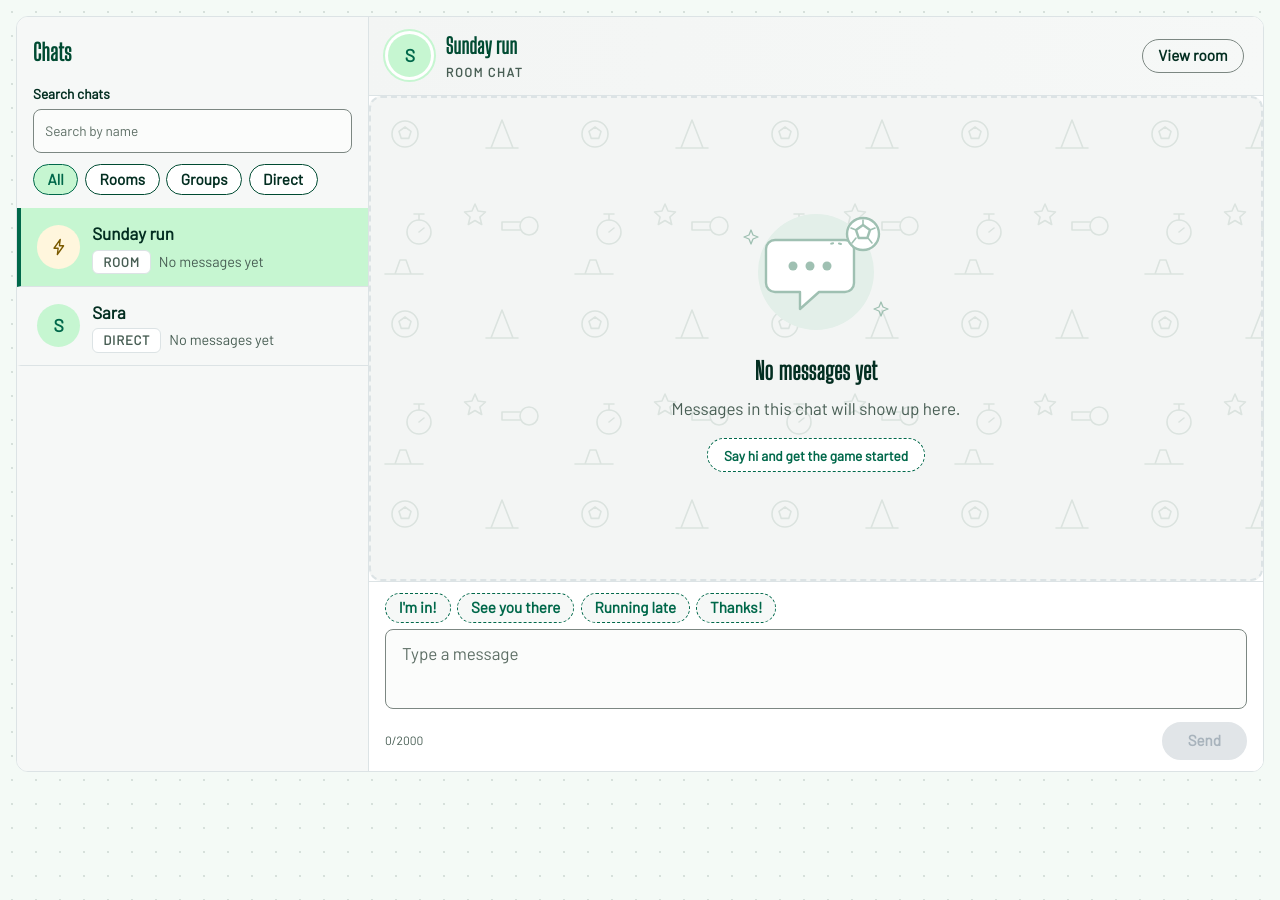
it: Sending › shows the first message of an empty chat
Expected: the heading "No messages yet" is shown, [755,352,877,389]
Step 1. Type "Anyone here?" into the text box with placeholder "Type a message" → (816, 669), box [385,629,1247,709]
Then press Enter
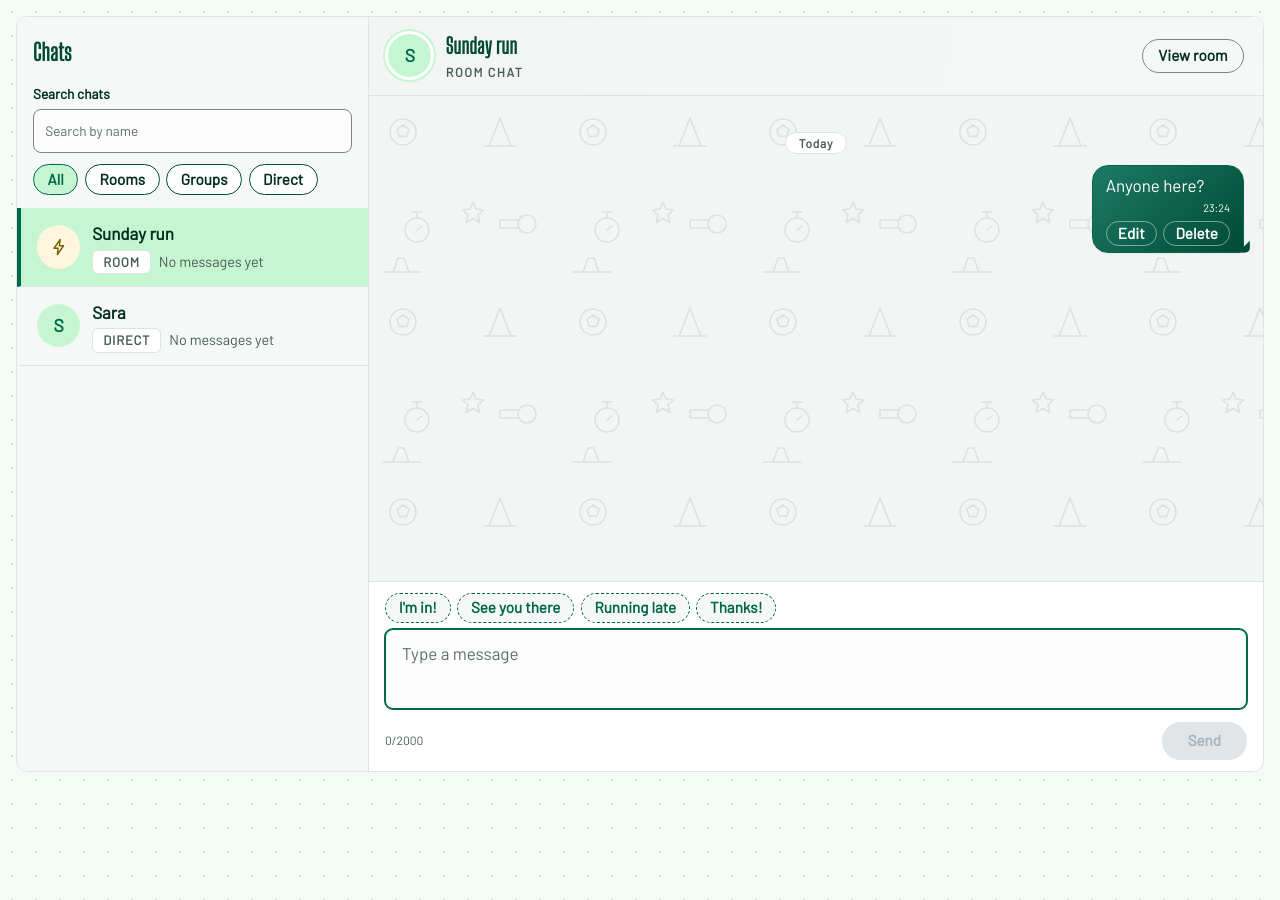
Expected: the text "Anyone here?" is shown, [1106,175,1204,195]
